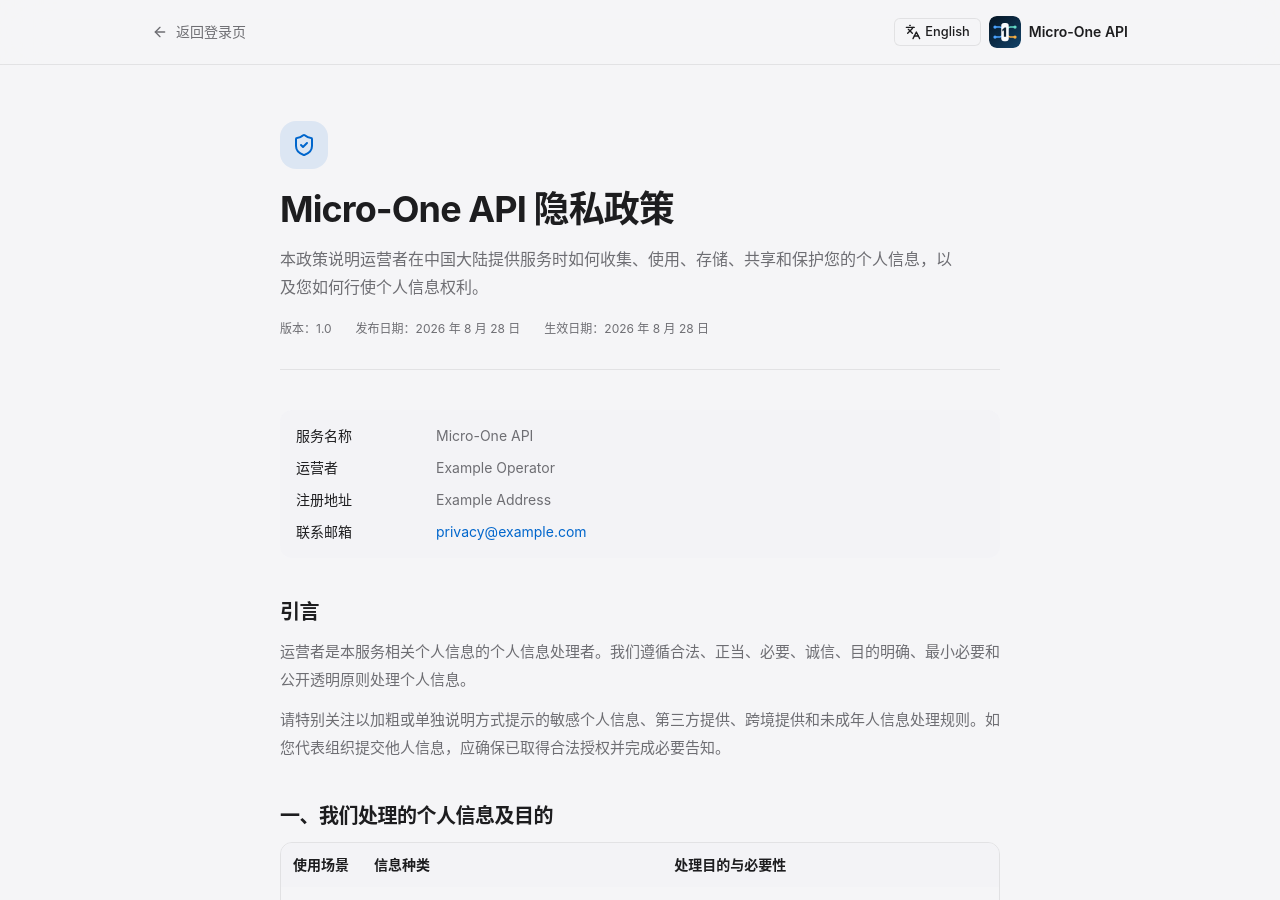
legal page language synchronization › switches the privacy policy title and table together
Expected: the heading "Micro-One API 隐私政策" is shown, [280, 187, 674, 231]
Expected: the column heading "信息种类" is shown, [362, 843, 662, 887]
Click the button with aria-label "切换至英文" at (938, 32), box [894, 18, 981, 46]
(page scrolled)
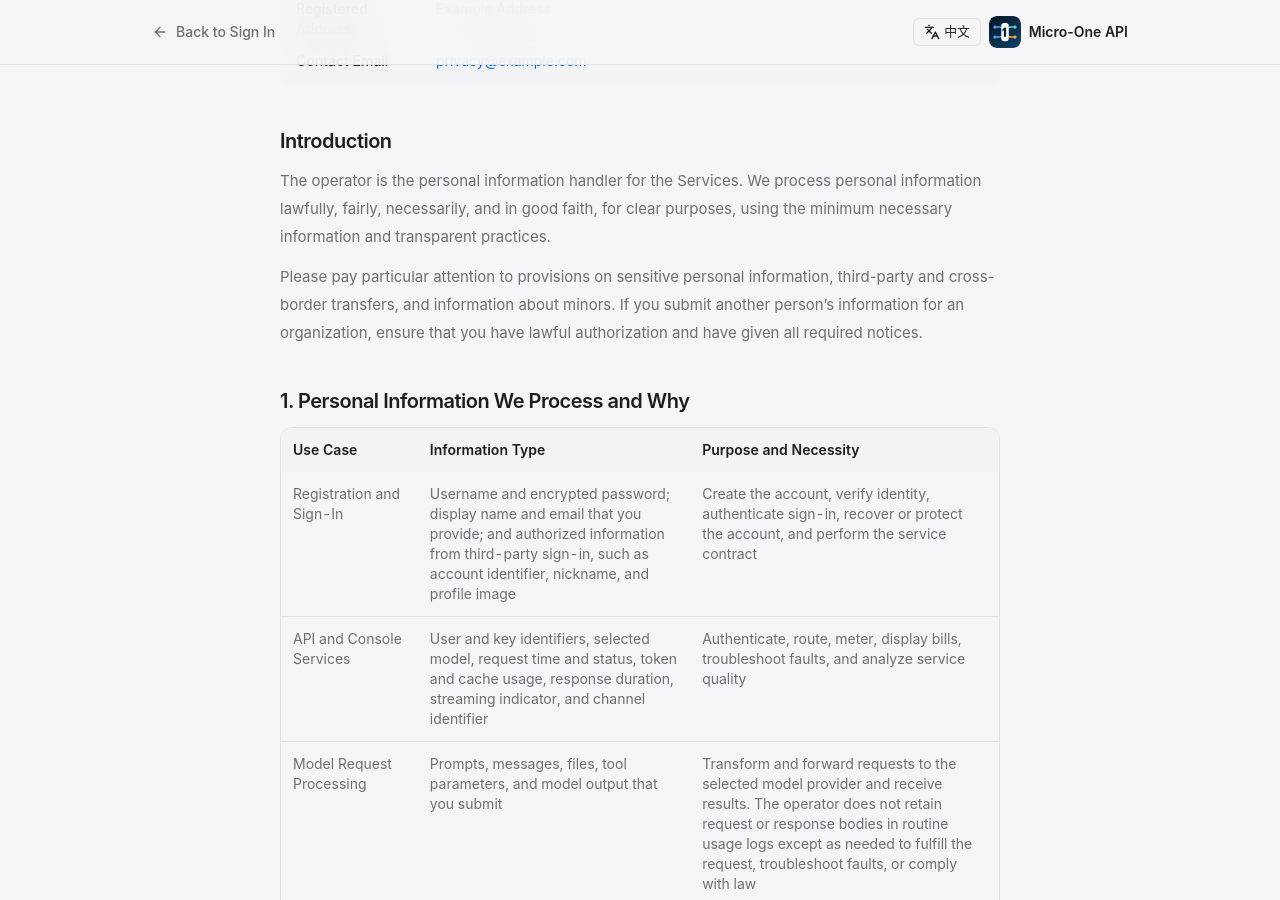
Now the column heading "Information Type" is shown, box [418, 428, 690, 472]
